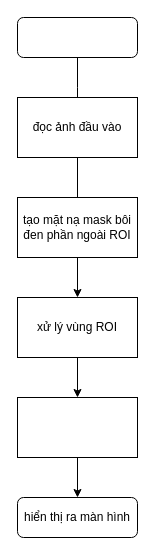
This 155x555 diagram has some shape labels left out. Here are the shapes that lost their labels. From the top down, the centre of each, then its label:
At pixel 77 37: "bắt đầu".
At pixel 77 427: "vẽ lane trái phải".
